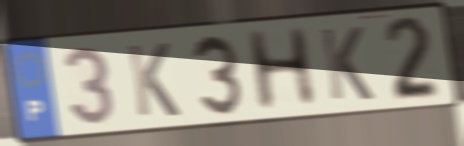2: (381, 13, 443, 107)
3: (60, 43, 117, 130), (191, 32, 244, 119)
H: (242, 24, 321, 116)
K: (124, 40, 184, 120), (317, 24, 377, 104)
